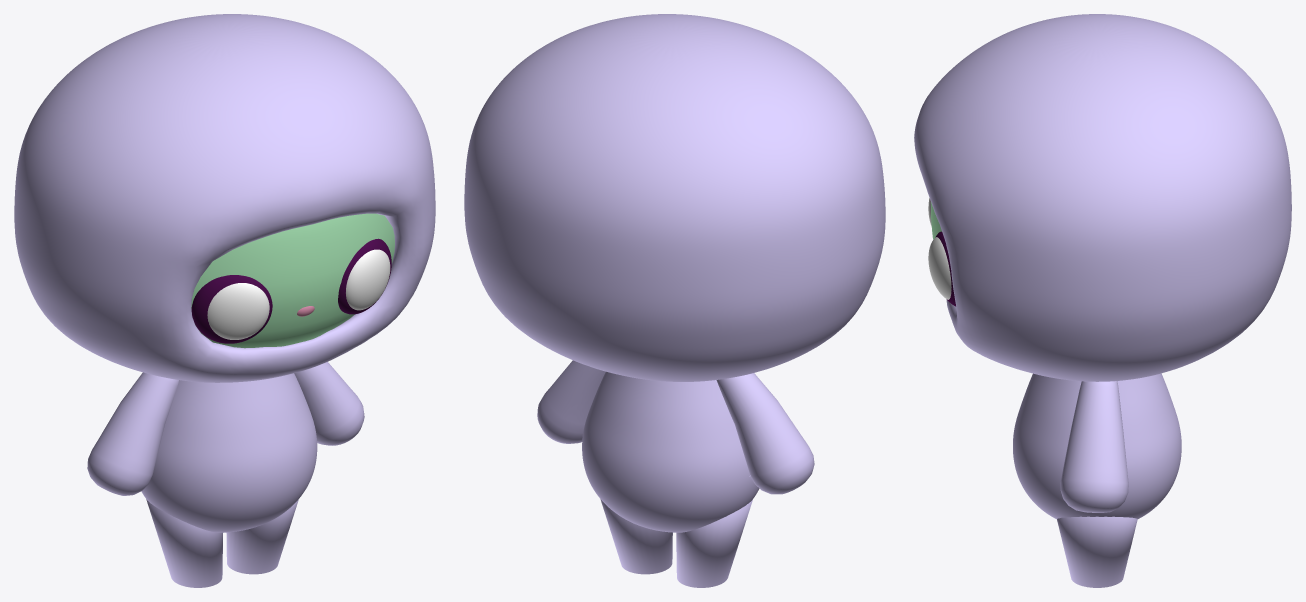
File: villaf.glb
3 renders of one model, left to right at view 1: azimuth 30°, elevation 25°; view 2: azimuth 150°, elevation 25°; view 3: azimuth 270°, elevation 25°, orthographic.
Parts seen in each view (by area): view 1: back up hatt #0, body, head, Cylinder, legs, eyes.001, eyes; view 2: back up hatt #0, body, Cylinder, legs; view 3: back up hatt #0, body, Cylinder, legs, eyes.001.
Boxes of the visible parts, x1,y1,x2,y2 form: back up hatt #0: [14, 14, 435, 382]; body: [141, 373, 317, 532]; head: [191, 213, 394, 348]; Cylinder: [87, 361, 364, 495]; legs: [146, 499, 298, 587]; eyes.001: [207, 249, 390, 339]; eyes: [191, 238, 391, 343]; back up hatt #0: [464, 14, 885, 381]; body: [582, 371, 759, 532]; Cylinder: [537, 360, 814, 494]; legs: [600, 475, 752, 587]; back up hatt #0: [914, 14, 1291, 381]; body: [1013, 373, 1181, 519]; Cylinder: [1060, 381, 1128, 512]; legs: [1057, 516, 1137, 587]; eyes.001: [928, 198, 951, 299].
Bounding box in the file's own units: 1.39 × 1.9 × 1.24.
